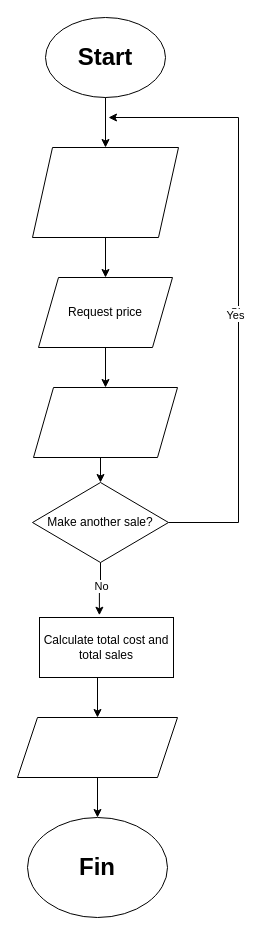
Some shapes in this 264 by 935 pixel diagram are drawn without their labels. The centre of each missing label's shape, as x and y in pixels:
"Request amount" belongs at point (105, 422).
"Request product name" belongs at point (105, 192).
"Show summary" belongs at point (97, 747).
